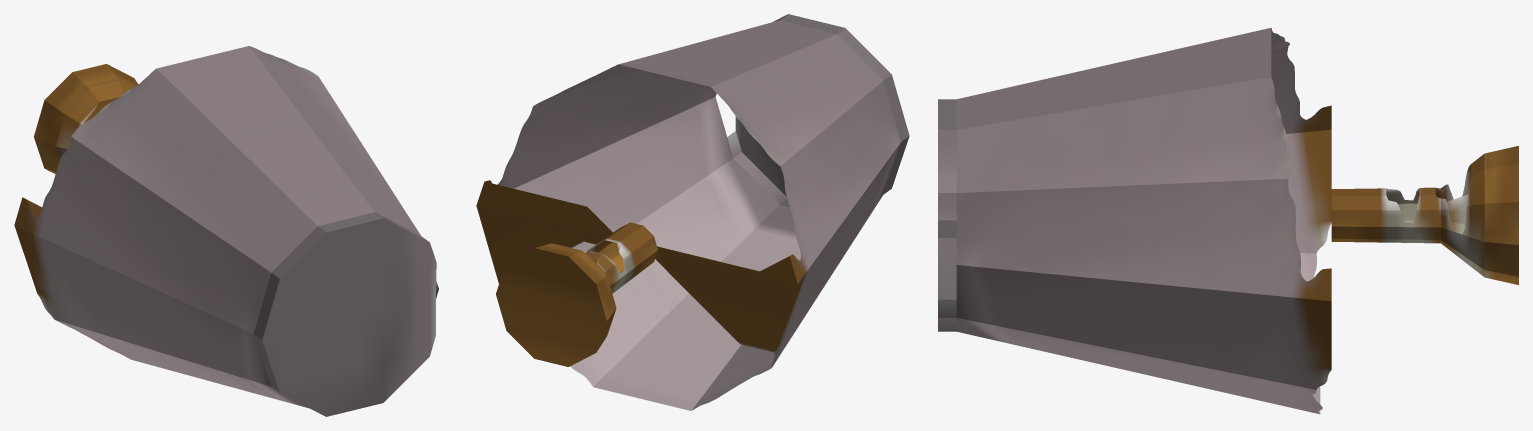
Rendered from pz_lamp_13.obj.
The picture shows the model from 3 angles, left to right: view 1: azimuth 30°, elevation 25°; view 2: azimuth 150°, elevation 25°; view 3: azimuth 270°, elevation 25°; orthographic projection. The views are drawn at different scales.
Size of the model in its own units: 0.26 by 0.2473 by 0.372.
Materials: 1 (1 with a texture image).
